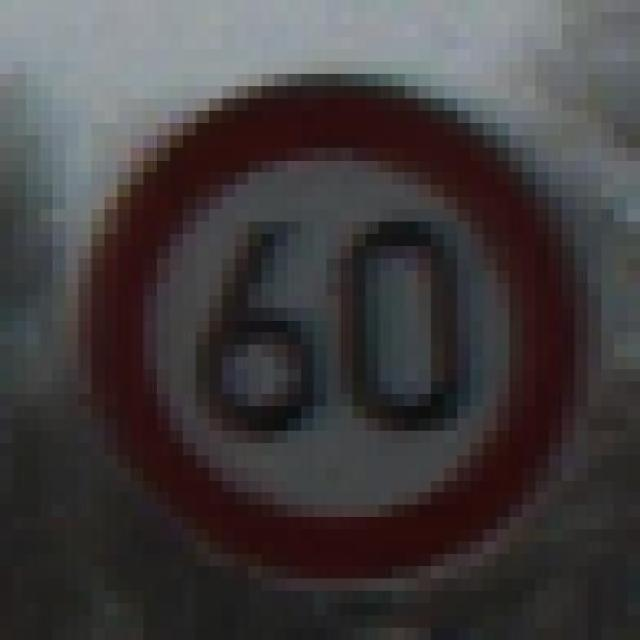forb_speed_over_60: (96, 88, 567, 568)
